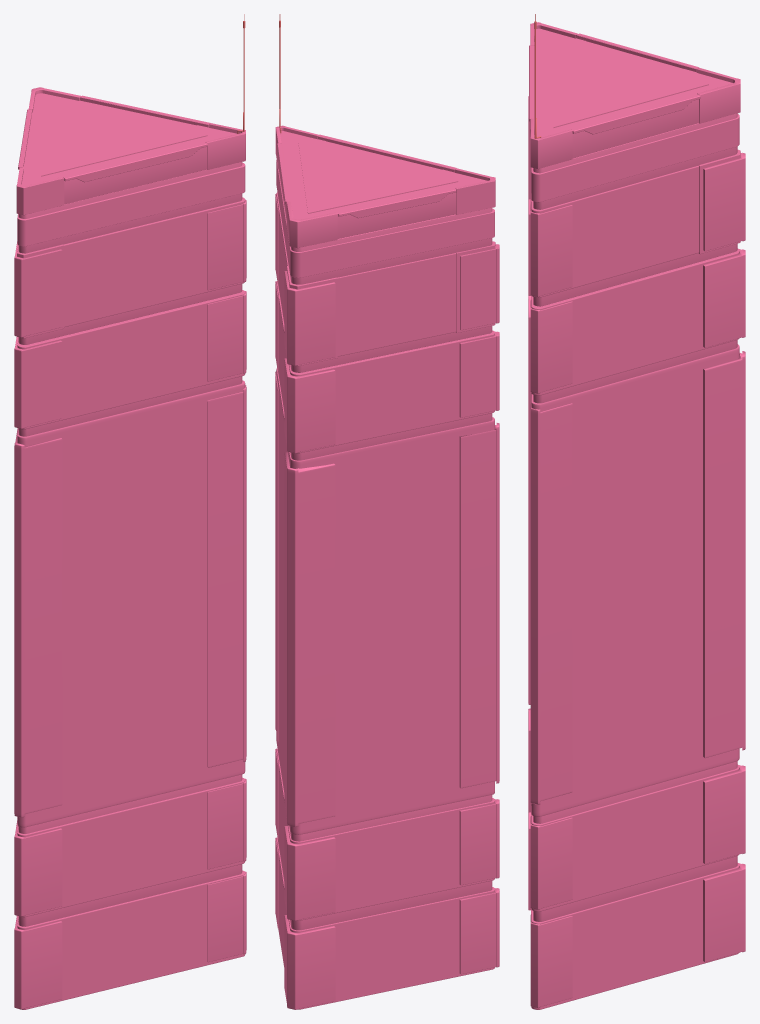
File: Building.1.fbx
3 renders of one model, left to right at view 1: azimuth 30°, elevation 25°; view 2: azimuth 150°, elevation 25°; view 3: azimuth 270°, elevation 25°, orthographic. The views are drawn at different scales.
Parts seen in each view (by area): view 1: Building_1; view 2: Building_1; view 3: Building_1.
Boxes of the visible parts, left/top/right/bottom form: Building_1: left=14, top=14, right=246, bottom=1009; Building_1: left=275, top=14, right=499, bottom=1009; Building_1: left=528, top=14, right=745, bottom=1009.
Size of the model in its own units: 2323 by 8962 by 1775.
